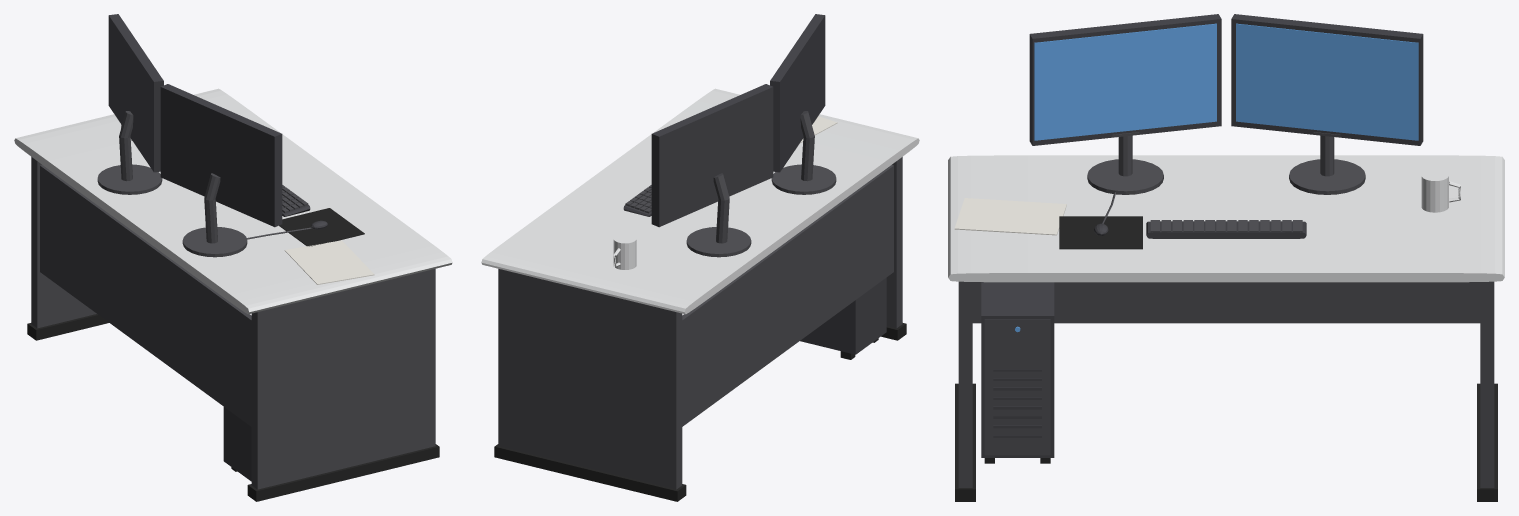
Rendered from SM_Prop_PC.fbx.
3 views of the same model, side by side, from view 1: azimuth 30°, elevation 25°; view 2: azimuth 150°, elevation 25°; view 3: azimuth 270°, elevation 25° (orthographic). The views are drawn at different scales.
Parts seen in each view (by area): view 1: SM_Prop_PC; view 2: SM_Prop_PC; view 3: SM_Prop_PC.
Boxes of the visible parts, x1,y1,x2,y2 form: SM_Prop_PC: (14, 14, 452, 501); SM_Prop_PC: (481, 14, 919, 501); SM_Prop_PC: (948, 14, 1504, 501).
Size of the model in its own units: 1.6 by 0.8 by 1.24.
